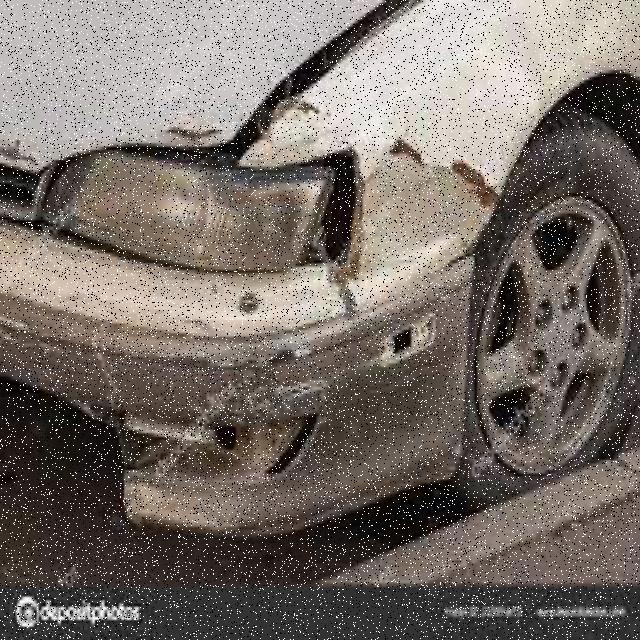bumper: (251, 30, 638, 274)
headlight: (0, 0, 263, 207)
hood: (0, 204, 470, 524)
